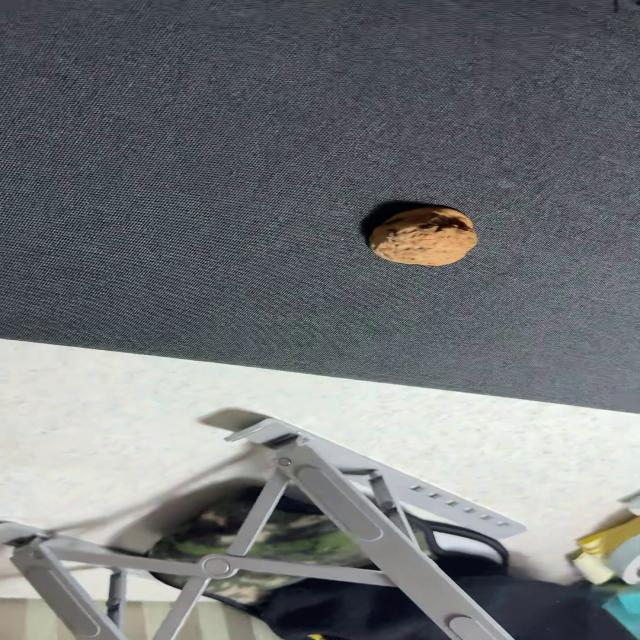nuts-bad0.5: (369, 206, 477, 267)
